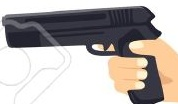pistol: (1, 3, 167, 104)
